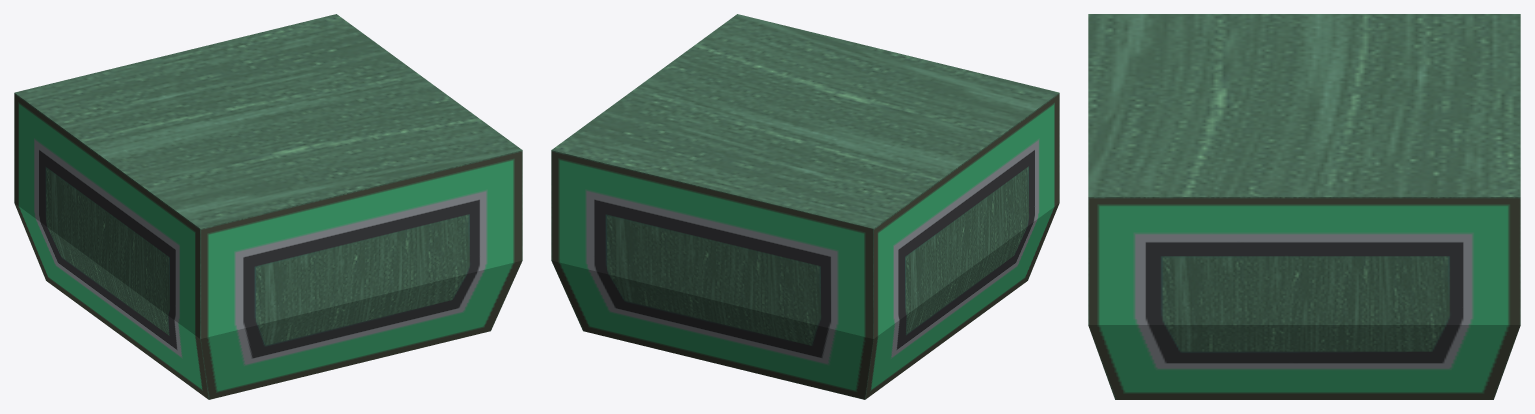
The model's file is SM_Judu.fbx.
3 renders of one model, left to right at view 1: azimuth 30°, elevation 25°; view 2: azimuth 150°, elevation 25°; view 3: azimuth 270°, elevation 25°, orthographic. The views are drawn at different scales.
Parts seen in each view (by area): view 1: SM_Judu; view 2: SM_Judu; view 3: SM_Judu.
Part boxes in pixels (x1,y1,x2,y2): SM_Judu: [14, 14, 522, 399]; SM_Judu: [551, 14, 1059, 399]; SM_Judu: [1088, 14, 1520, 399].
Bounding box in the file's own units: 24.94 × 24.94 × 13.65.
1 material, 1 textured.
